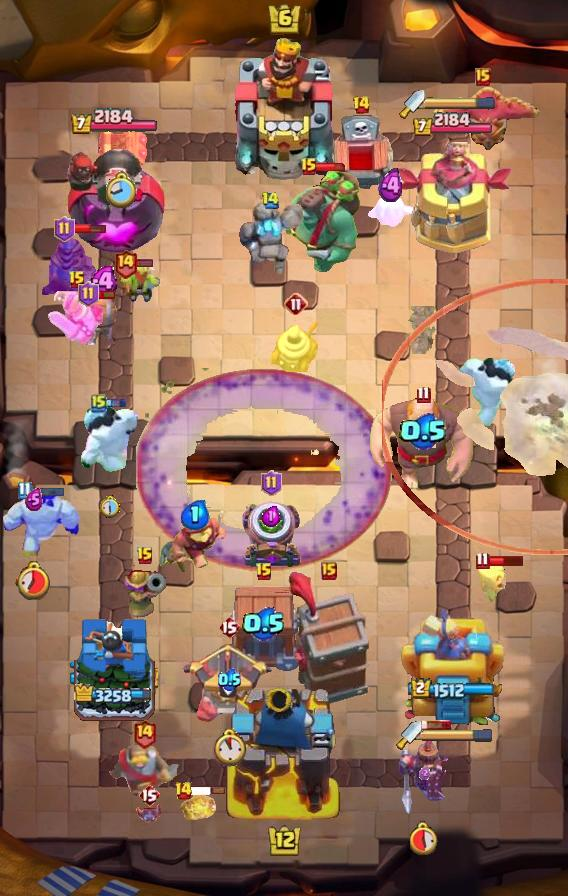balloon: (370, 397, 476, 493)
bar: (401, 601, 505, 731), (394, 142, 512, 256)
barbarian-barrel: (134, 803, 164, 825)
bat-evolution: (476, 558, 508, 602)
bomb: (225, 587, 303, 673)
bomb-tower: (124, 565, 166, 633)
dart-goblin: (287, 570, 371, 708)
electro-spirit: (399, 413, 449, 451), (242, 607, 286, 641), (89, 266, 121, 297), (379, 168, 406, 204), (181, 500, 210, 530), (219, 669, 242, 692), (25, 489, 43, 512), (262, 505, 280, 527), (419, 766, 430, 780)
elixir: (15, 560, 53, 600), (212, 728, 249, 767), (106, 171, 138, 210), (410, 821, 438, 855), (99, 494, 121, 518)
elixir-golem-big: (397, 725, 451, 817)
elixir-golem-mid: (326, 114, 396, 200)
emote: (487, 553, 525, 567), (30, 485, 66, 497), (416, 719, 452, 731), (73, 223, 108, 235), (190, 786, 226, 796), (316, 162, 348, 172), (105, 399, 127, 410), (96, 288, 116, 300), (134, 258, 154, 268)
fireball: (158, 513, 232, 575)
firecracker: (108, 745, 180, 798)
fisherman: (401, 306, 439, 354)
goblin-brawler: (95, 119, 149, 169)
goblin-cage: (239, 500, 303, 570)
goblin-drill: (269, 312, 323, 372)
goblin-giant: (47, 290, 107, 346)
ice-spirit-evolution: (178, 791, 218, 827)
king-tower: (223, 680, 345, 826), (228, 35, 340, 181)
king-tower-bar: (422, 728, 494, 742), (425, 97, 495, 111)
knight: (81, 297, 129, 345)
lava-hound: (282, 163, 362, 275)
lava-pup: (183, 642, 275, 724)
mirror: (366, 193, 416, 231)
mother-witch: (426, 84, 540, 152)
queen-tower: (70, 616, 158, 731)
rage: (0, 490, 84, 556), (453, 356, 525, 428), (80, 403, 140, 475)
ram-rider: (37, 231, 115, 311)
rocket: (136, 368, 392, 572)
royal-ghost: (382, 279, 568, 555)
selected: (69, 108, 158, 136), (412, 112, 494, 138), (74, 683, 154, 707), (412, 678, 497, 700)
text: (131, 718, 156, 749), (114, 249, 138, 280), (284, 292, 308, 316), (53, 216, 75, 242), (78, 281, 99, 307), (261, 470, 282, 496), (218, 615, 240, 639), (138, 783, 160, 807), (352, 95, 372, 115), (260, 190, 280, 209), (175, 781, 194, 801), (300, 157, 318, 177), (68, 270, 86, 290), (136, 546, 154, 566), (255, 562, 273, 582), (91, 393, 107, 413), (475, 68, 491, 86), (321, 562, 337, 580), (17, 481, 32, 499), (475, 551, 490, 569), (417, 385, 431, 403)
tower-bar: (62, 138, 166, 256)
valkyrie-evolution: (233, 199, 307, 281)
zap: (116, 263, 162, 305)
